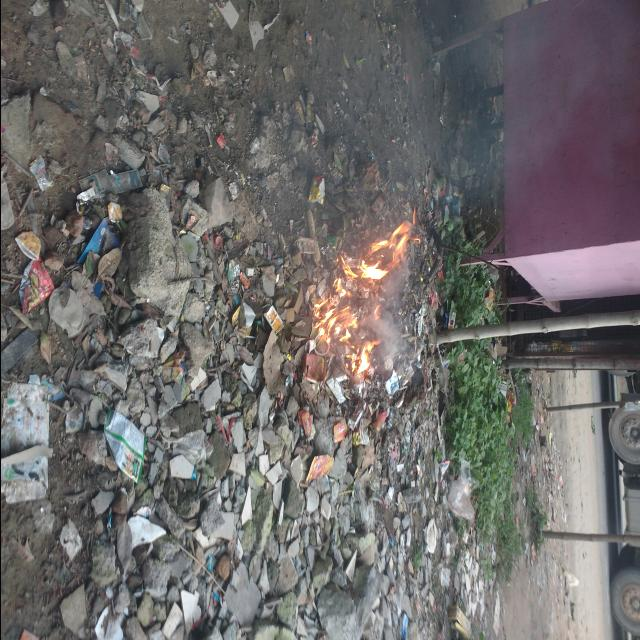firerotation: (311, 206, 421, 376)
